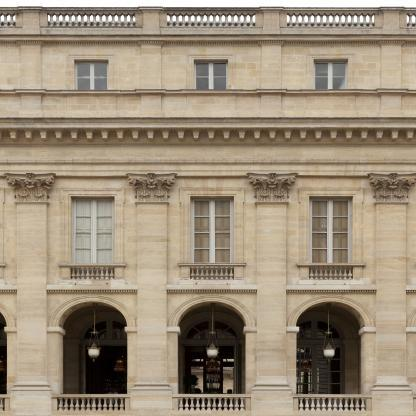Balcony: (0, 7, 416, 35), (293, 394, 372, 415), (52, 394, 131, 415), (172, 394, 251, 415)
Building Outline: (0, 7, 416, 416)
Door: (285, 344, 345, 411), (182, 344, 242, 411), (80, 344, 140, 411)
Facade: (0, 7, 416, 416)
Floor: (0, 285, 416, 411), (0, 166, 416, 281)
Floor Slab: (0, 118, 416, 123), (0, 411, 416, 416), (0, 280, 416, 285)
Molding: (1, 118, 416, 146), (0, 35, 416, 45), (0, 158, 416, 166), (0, 89, 416, 94), (287, 285, 377, 294), (47, 285, 137, 294), (167, 285, 257, 294)
Pillar: (3, 172, 58, 416), (245, 172, 300, 416), (125, 172, 179, 416), (365, 172, 416, 416)
Top Floor: (0, 35, 416, 158)
Window: (58, 301, 128, 394), (296, 301, 366, 394), (177, 301, 246, 394), (309, 196, 353, 280), (190, 196, 234, 280), (71, 196, 114, 280), (182, 318, 242, 340), (285, 318, 345, 339), (79, 318, 138, 339), (74, 60, 109, 90), (314, 59, 348, 89), (194, 59, 228, 89)
